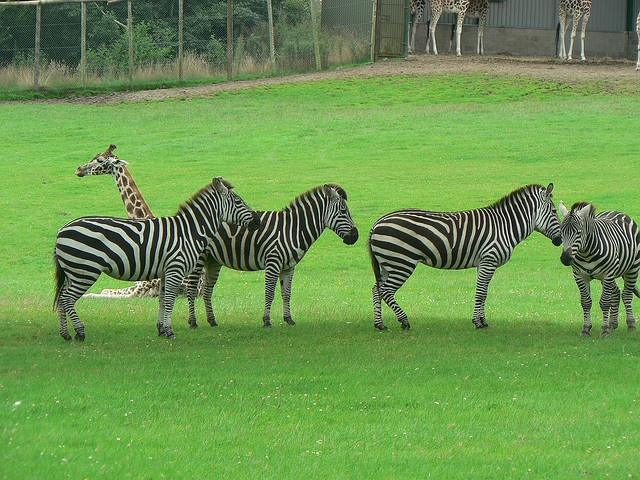zebra: (156, 260, 362, 422), (464, 255, 640, 402), (272, 256, 446, 403), (600, 268, 640, 405)
